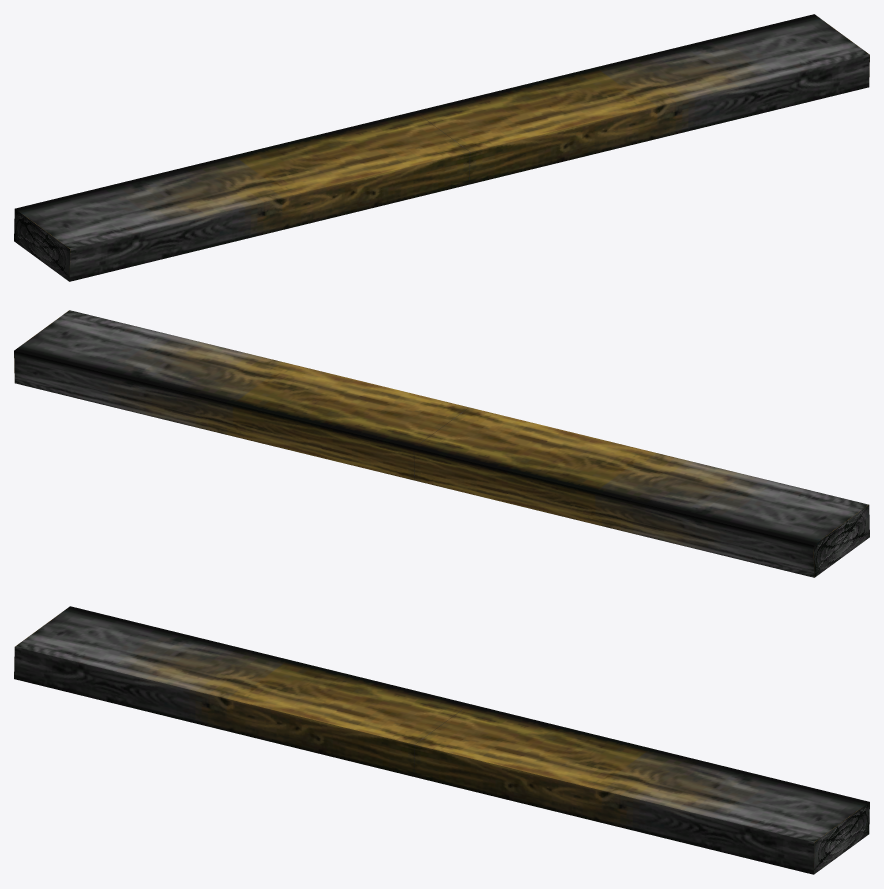
File: CB_BOARD3.obj
The picture shows the model from 3 angles, top to bottom: view 1: azimuth 30°, elevation 25°; view 2: azimuth 150°, elevation 25°; view 3: azimuth 330°, elevation 25°; orthographic projection.
Visible parts, largest first — view 1: CB_board3; view 2: CB_board3; view 3: CB_board3.
Boxes of the visible parts, left/top/right/bottom form: CB_board3: left=14, top=14, right=869, bottom=281; CB_board3: left=14, top=310, right=869, bottom=577; CB_board3: left=14, top=606, right=869, bottom=874.
Size of the model in its own units: 710 by 27.99 by 85.27.
